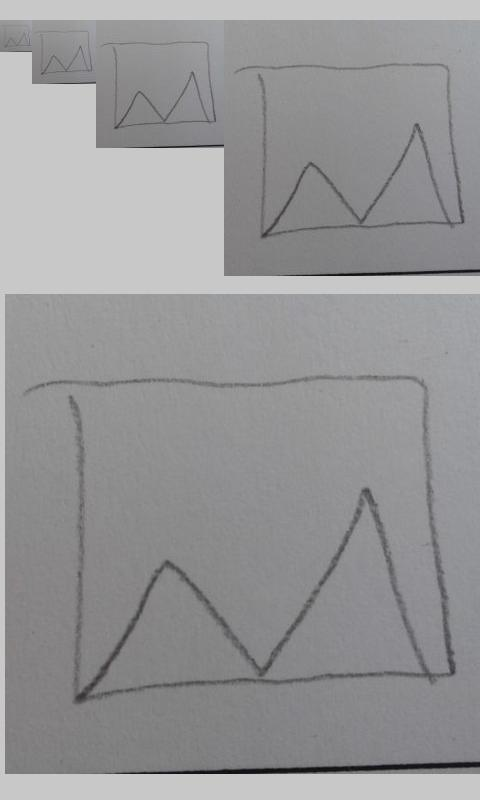image_view: (68, 372, 457, 702), (256, 62, 465, 236), (110, 40, 217, 129), (40, 29, 93, 76), (3, 24, 31, 48)
